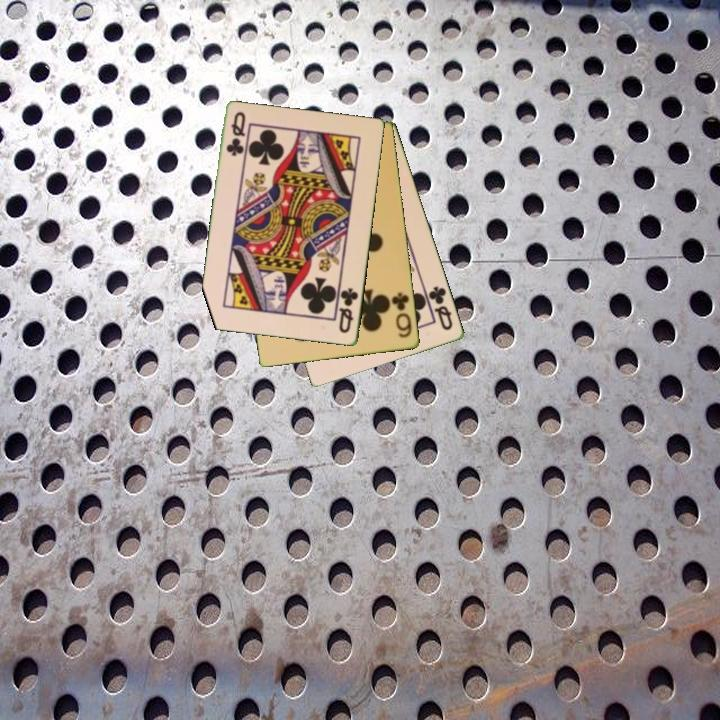6c: (388, 289, 415, 341)
Qc: (425, 282, 456, 333), (223, 108, 249, 159), (336, 285, 361, 336)
